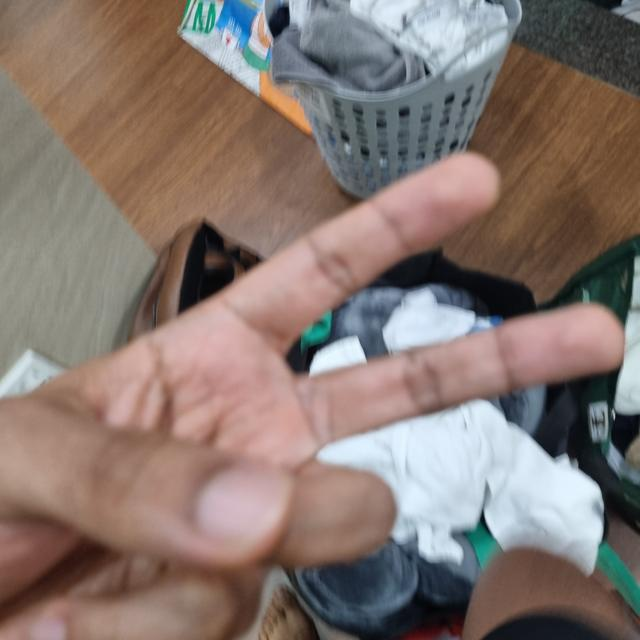Scissors: (0, 149, 622, 601)
